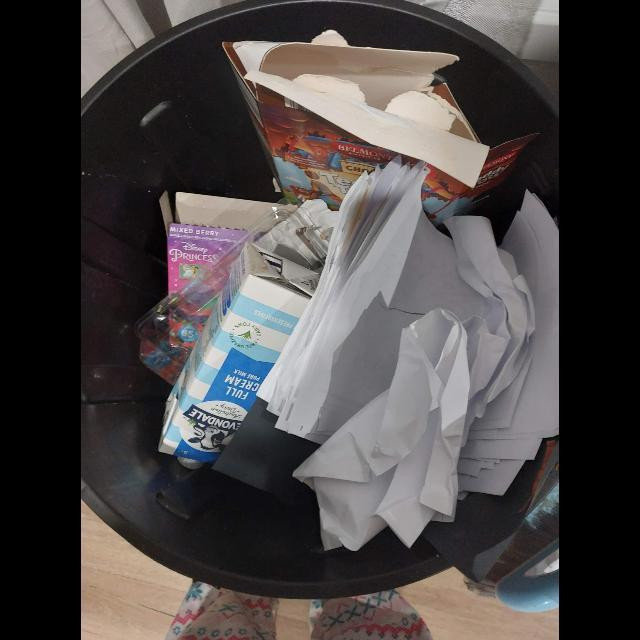cardboard: (221, 31, 540, 223), (159, 191, 279, 292)
paper: (259, 154, 559, 550), (294, 309, 471, 551)
